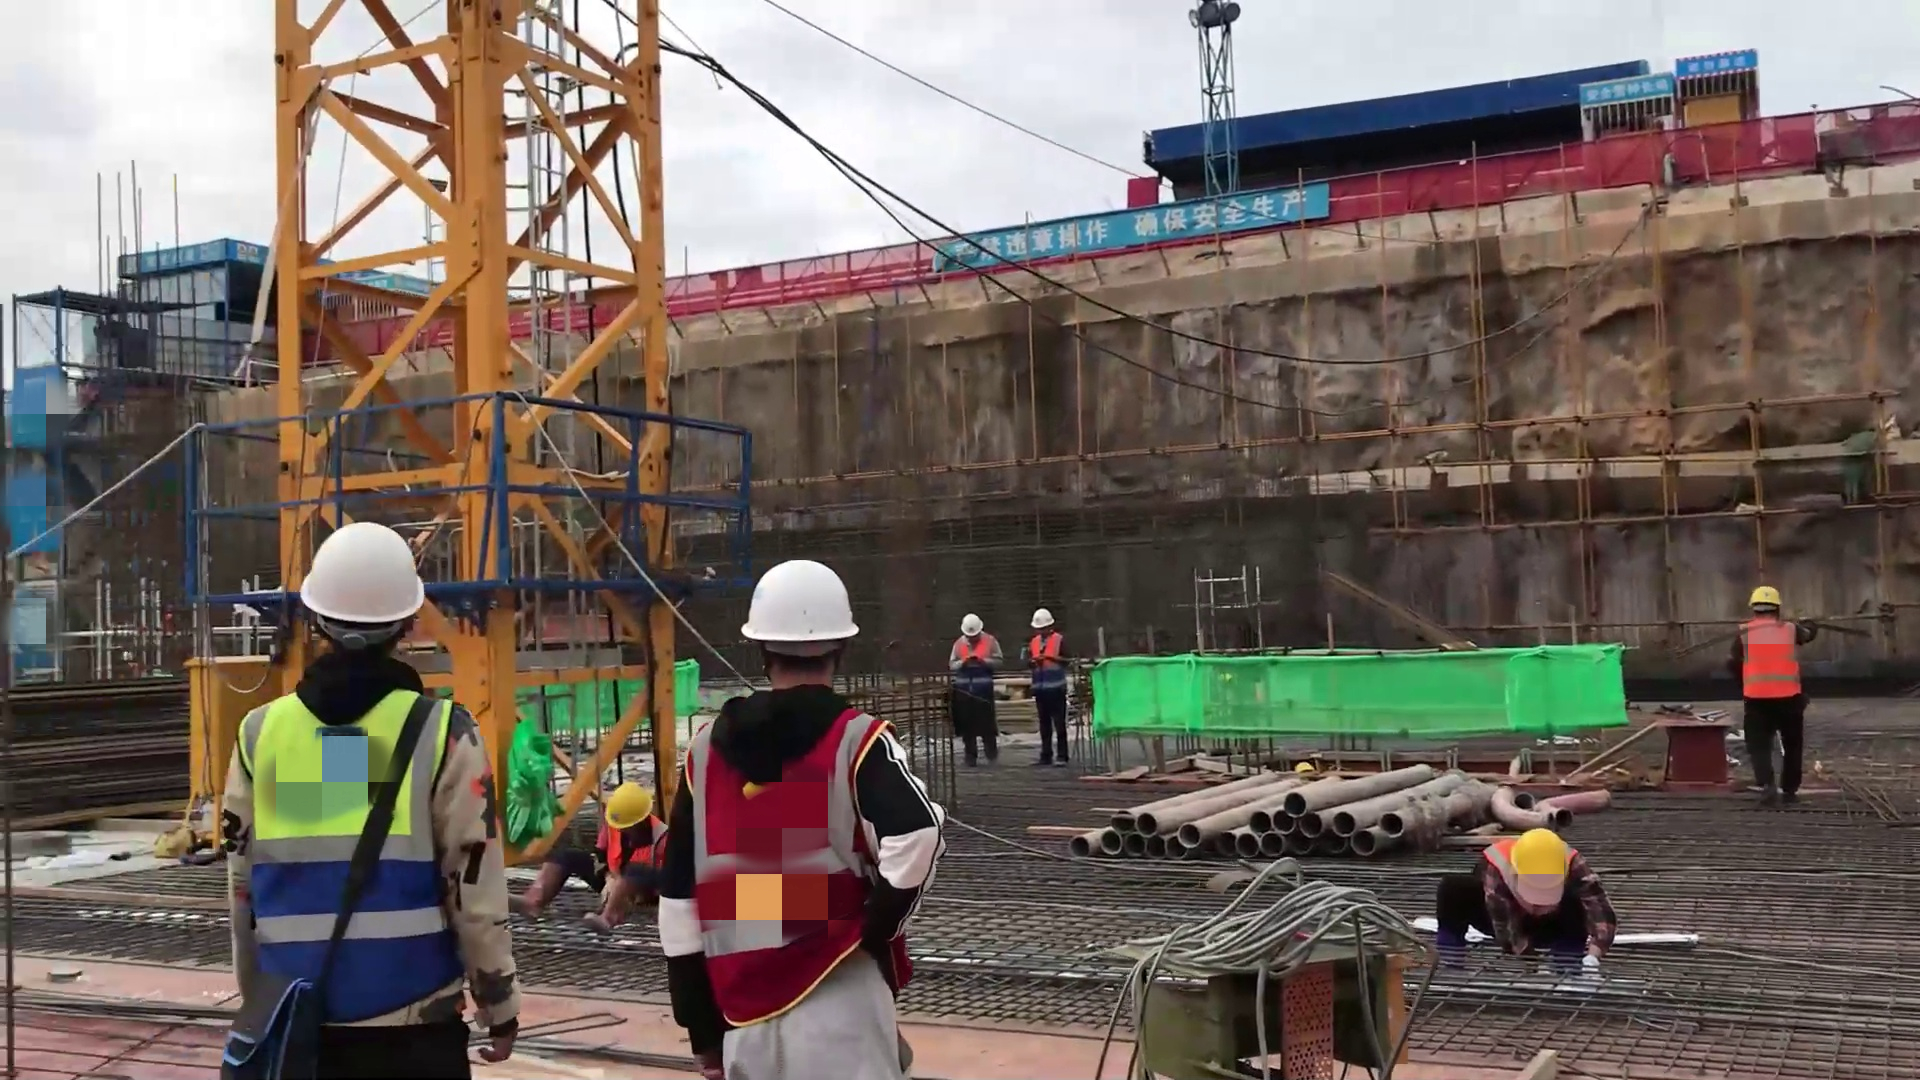helmet: (296, 515, 439, 623), (737, 558, 865, 637), (1513, 826, 1564, 883), (1747, 586, 1783, 611), (961, 611, 984, 638), (1027, 610, 1055, 628)
person: (224, 531, 520, 1080), (636, 566, 944, 1076), (1433, 818, 1651, 965), (1732, 582, 1805, 813), (1014, 596, 1089, 766), (586, 778, 658, 923), (946, 607, 1002, 765)
vest: (230, 696, 448, 1012), (706, 710, 892, 1014), (1474, 833, 1578, 906), (1746, 618, 1802, 696), (602, 817, 661, 874), (958, 636, 998, 701), (1030, 629, 1071, 682)
